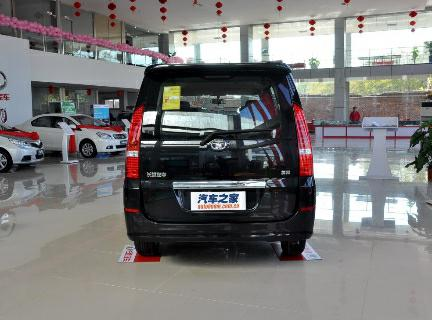长城-V80: (121, 56, 323, 267)
